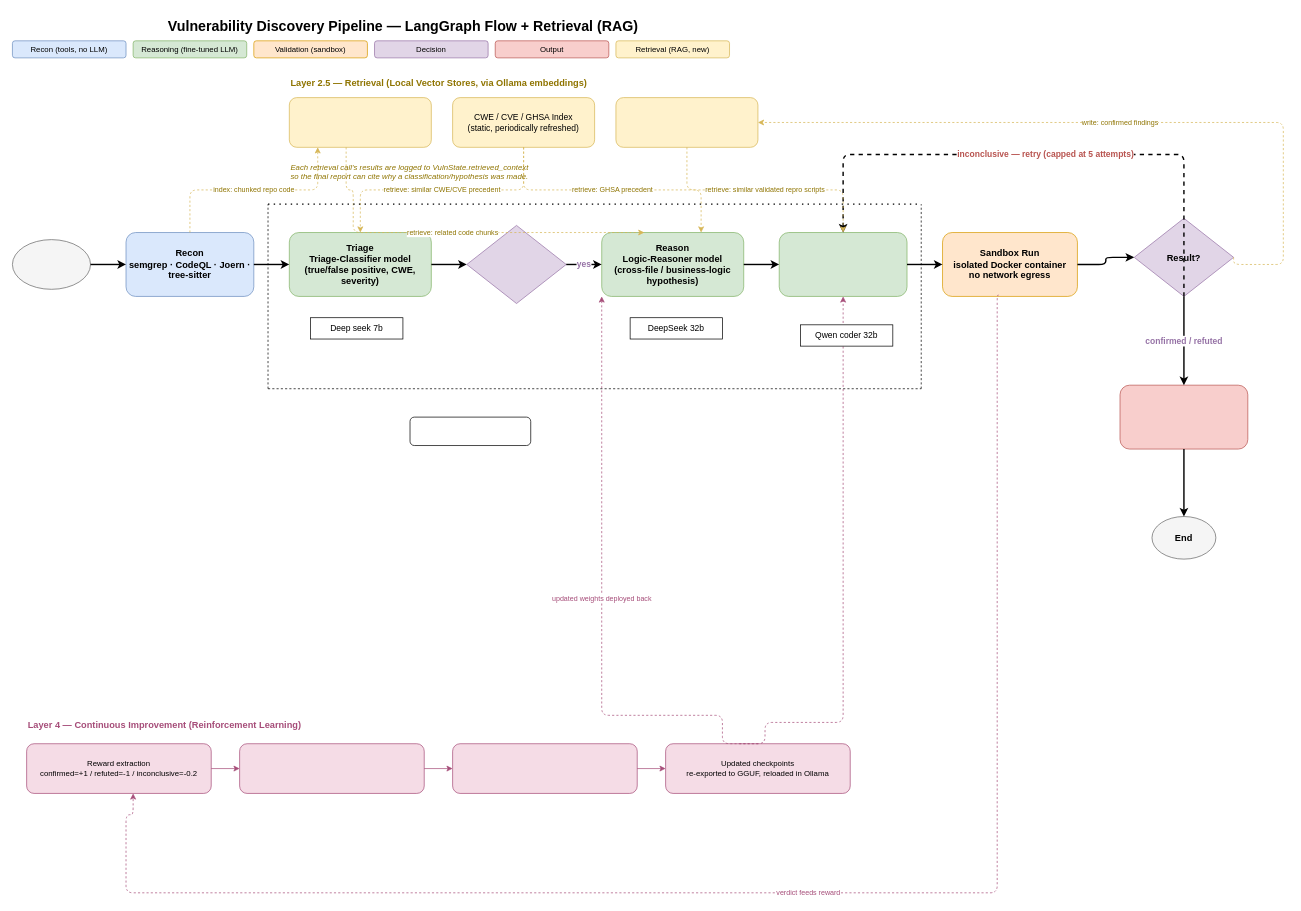
Image size: 1301x911. Some labels were removed from this diagram. The box of each missing label's shape, as (x1, y1, x2, y2) in pixels:
Exploit-Findings Index (grows over time, confirmed only): (615, 97, 758, 147)
Generate Script Exploit-Scriptwriter model: (779, 232, 907, 296)
Learned routing/retry policy finder + check_result as contextual bandit: (452, 743, 637, 793)
LLM Triage: (409, 416, 531, 446)
Needs deep reasoning?: (466, 225, 566, 304)
Repo Code Index (per-run, from tree-sitter chunks): (289, 97, 431, 147)
Report final findings + evidence (cites retrieved precedent): (1119, 384, 1248, 449)
RL fine-tuning (GRPO/PPO) Logic-Reasoner + Validator-Scriptwriter: (239, 743, 424, 793)
Start repo_path: (12, 239, 91, 289)
